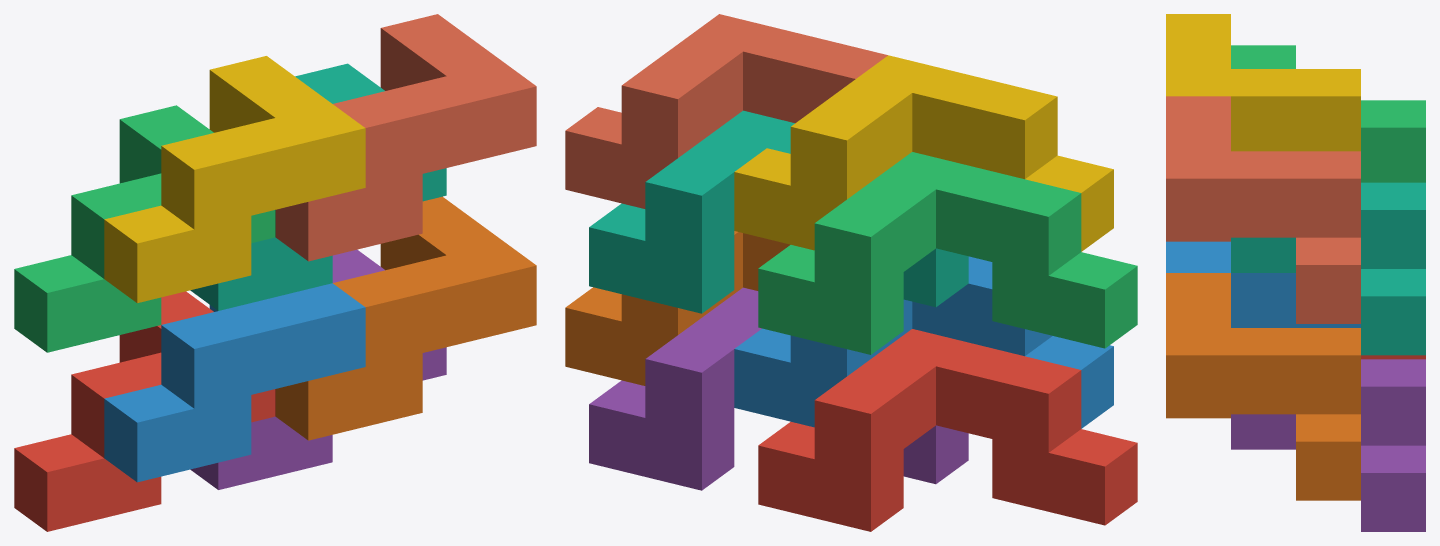
Rendered from tiling.obj.
3 views of the same model, side by side, from view 1: azimuth 30°, elevation 25°; view 2: azimuth 150°, elevation 25°; view 3: azimuth 270°, elevation 25° (orthographic).
Visible parts, largest first — view 1: copy_1_domain_4, copy_1_domain_8, copy_1_domain_2, copy_1_domain_6, copy_1_domain_3, copy_1_domain_1, copy_1_domain_7, copy_1_domain_5; view 2: copy_1_domain_1, copy_1_domain_3, copy_1_domain_4, copy_1_domain_8, copy_1_domain_7, copy_1_domain_5, copy_1_domain_2, copy_1_domain_6; view 3: copy_1_domain_6, copy_1_domain_8, copy_1_domain_4, copy_1_domain_7, copy_1_domain_5, copy_1_domain_3, copy_1_domain_2, copy_1_domain_1.
Boxes of the visible parts, left/top/right/bottom form: copy_1_domain_4: left=104, top=56, right=365, bottom=303; copy_1_domain_8: left=275, top=14, right=536, bottom=261; copy_1_domain_2: left=104, top=283, right=365, bottom=482; copy_1_domain_6: left=275, top=196, right=536, bottom=440; copy_1_domain_3: left=14, top=105, right=275, bottom=352; copy_1_domain_1: left=14, top=291, right=275, bottom=531; copy_1_domain_7: left=190, top=63, right=446, bottom=310; copy_1_domain_5: left=190, top=249, right=446, bottom=489; copy_1_domain_1: left=758, top=329, right=1137, bottom=531; copy_1_domain_3: left=758, top=152, right=1137, bottom=354; copy_1_domain_4: left=734, top=55, right=1113, bottom=251; copy_1_domain_8: left=565, top=14, right=887, bottom=208; copy_1_domain_7: left=589, top=110, right=968, bottom=313; copy_1_domain_5: left=589, top=287, right=968, bottom=490; copy_1_domain_2: left=734, top=256, right=1113, bottom=428; copy_1_domain_6: left=565, top=231, right=790, bottom=385; copy_1_domain_6: left=1166, top=273, right=1360, bottom=500; copy_1_domain_8: left=1166, top=96, right=1360, bottom=323; copy_1_domain_4: left=1166, top=14, right=1360, bottom=151; copy_1_domain_7: left=1231, top=182, right=1425, bottom=355; copy_1_domain_5: left=1231, top=359, right=1425, bottom=531; copy_1_domain_3: left=1231, top=45, right=1425, bottom=182; copy_1_domain_2: left=1166, top=241, right=1360, bottom=327; copy_1_domain_1: left=1361, top=355, right=1425, bottom=359.
Size of the model in its own units: 9 by 6 by 4.
